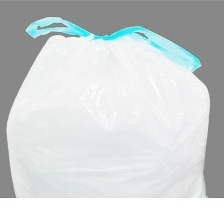plastic_bag: (0, 6, 217, 198)
